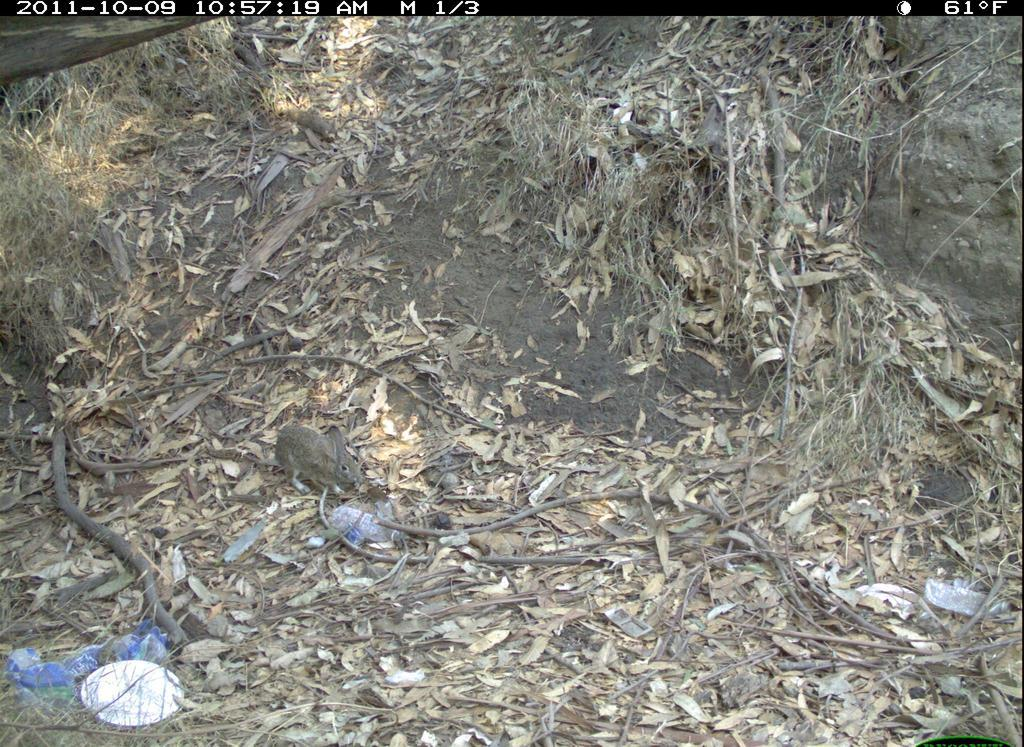rabbit: (276, 410, 374, 530)
